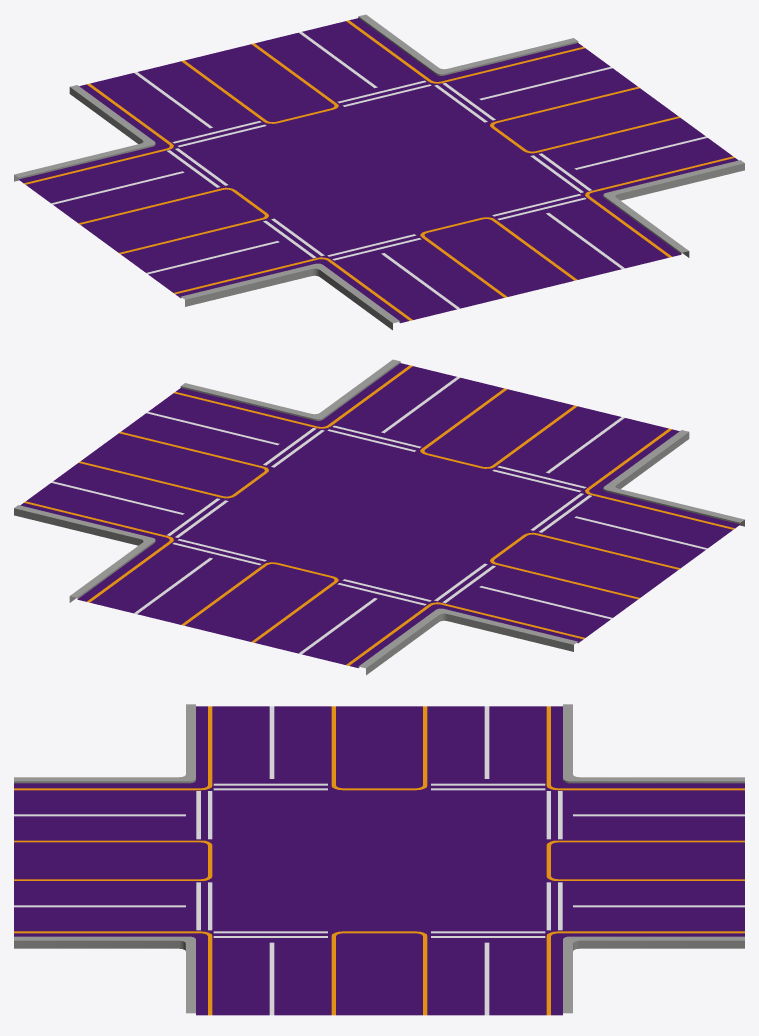
File: Road_C_2L_1_6.fbx
The picture shows the model from 3 angles, top to bottom: view 1: azimuth 30°, elevation 25°; view 2: azimuth 150°, elevation 25°; view 3: azimuth 270°, elevation 25°; orthographic projection. The views are drawn at different scales.
Parts seen in each view (by area): view 1: Road_C_2L_1_6; view 2: Road_C_2L_1_6; view 3: Road_C_2L_1_6.
Boxes of the visible parts, left/top/right/bottom form: Road_C_2L_1_6: left=14, top=14, right=744, bottom=330; Road_C_2L_1_6: left=14, top=359, right=744, bottom=675; Road_C_2L_1_6: left=14, top=704, right=744, bottom=1015.
Size of the model in its own units: 3400 by 41.49 by 3400.
